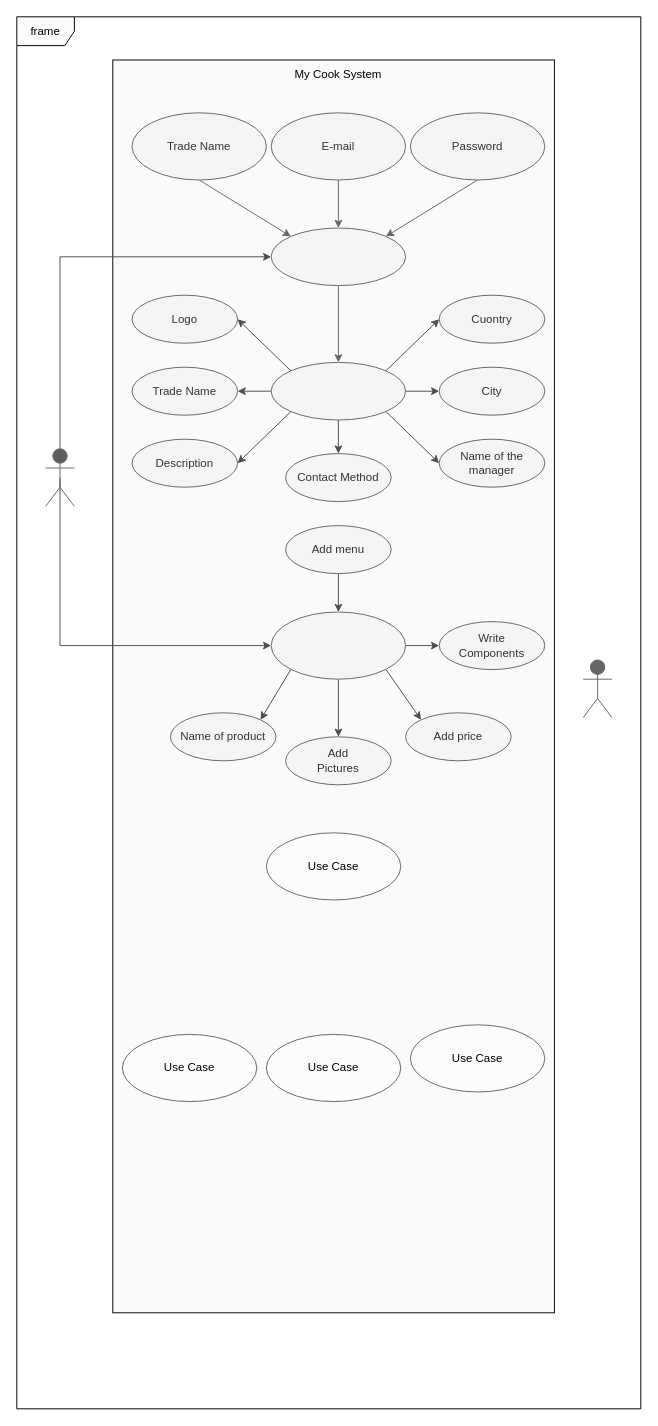
The diagram is 658 pixels wide and 1426 high, and some of its shapes have lost their labels. Here are the shapes that lost their labels. From the top down, the centre of each, then its label:
the point at 338,256: Create Account for Seller
the point at 338,390: Seller information
the point at 59,477: Seller
the point at 338,645: Add products
the point at 597,688: Customer
